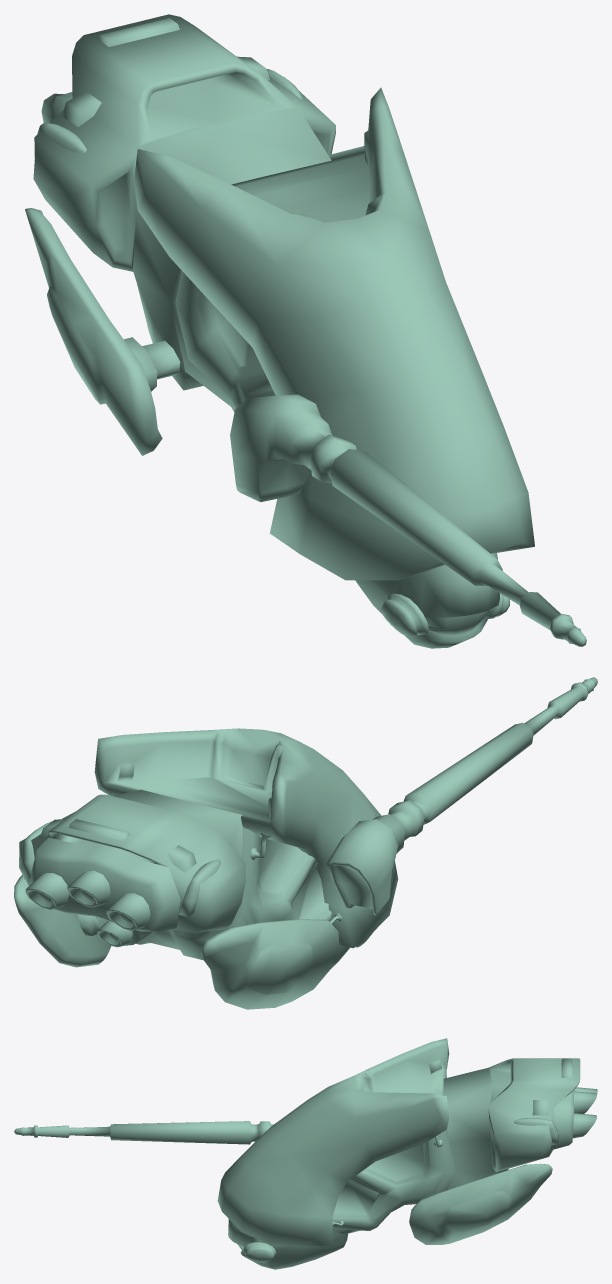
The model's file is incursus.glb.
The picture shows the model from 3 angles, top to bottom: view 1: azimuth 30°, elevation 25°; view 2: azimuth 150°, elevation 25°; view 3: azimuth 270°, elevation 25°; orthographic projection. The views are drawn at different scales.
Visible parts, largest first — view 1: incursus; view 2: incursus; view 3: incursus.
Part boxes in pixels (box(x1,y1,x2,y2)): incursus: box(25, 14, 586, 648); incursus: box(14, 677, 597, 1009); incursus: box(14, 1038, 597, 1269).
Size of the model in its own units: 0.3271 by 0.3786 by 1.
